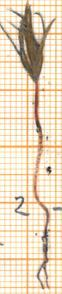flower: (0, 2, 62, 85)
root: (35, 208, 55, 294)
stem: (26, 81, 51, 209)
